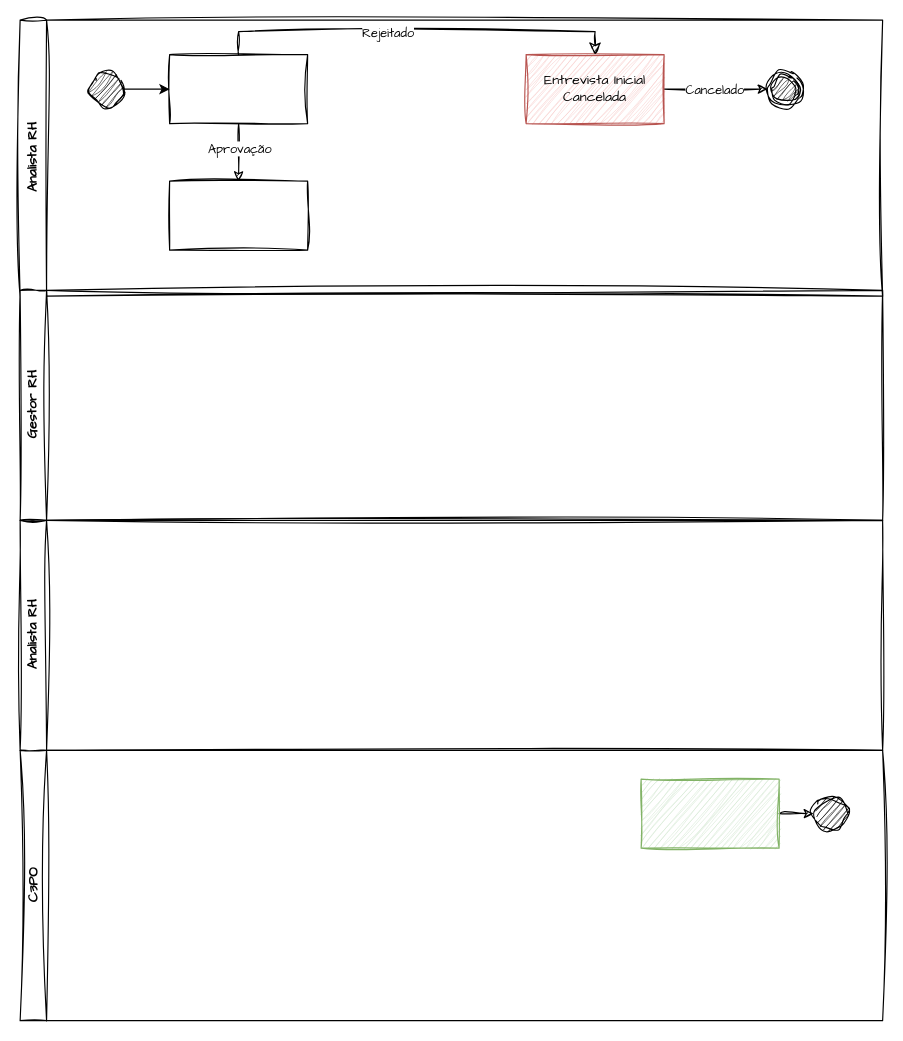
The diagram is 903 pixels wide and 1041 high, and some of its shapes have lost their labels. The shapes that lost their labels are listed below. From the top down, each one's centre as x and y in pixels, then its label:
At point (238, 88): "Agendar Entrevista Inicial".
At point (238, 215): "Aguardar Entrevista Inicial".
At point (709, 813): "Recrutamento Finalizado".
